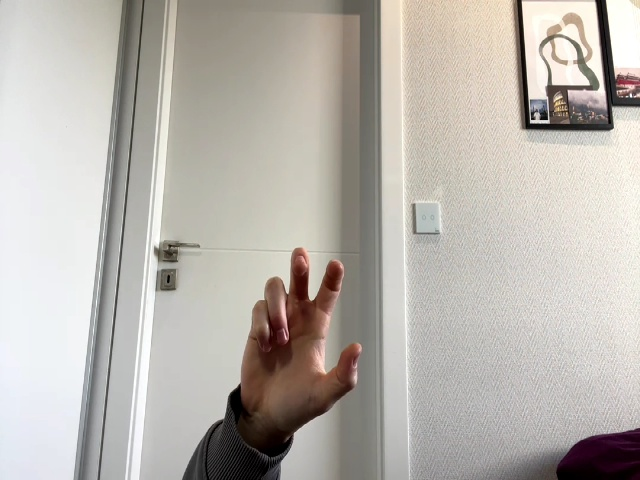CH: (242, 248, 363, 422)
